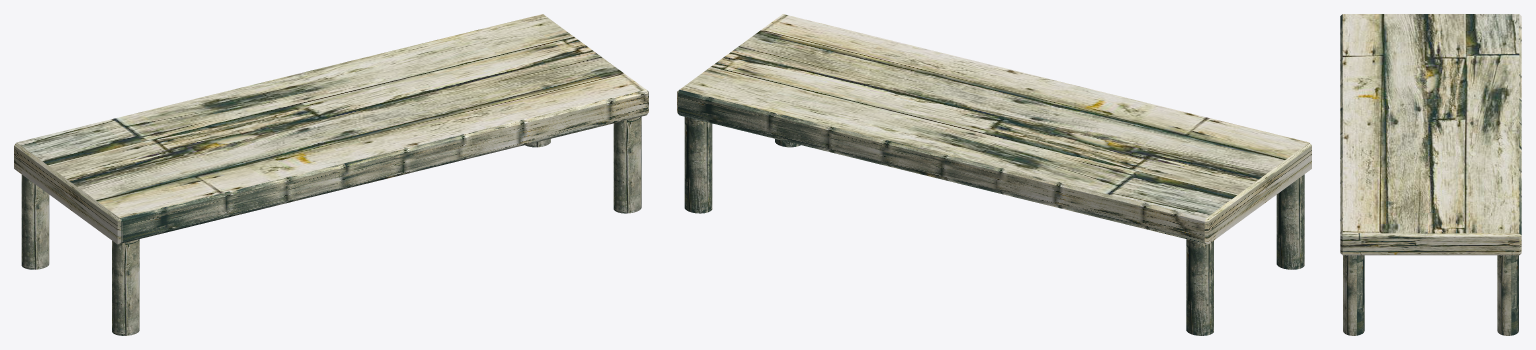
Rendered from Dock.fbx.
3 views of the same model, side by side, from view 1: azimuth 30°, elevation 25°; view 2: azimuth 150°, elevation 25°; view 3: azimuth 270°, elevation 25° (orthographic). The views are drawn at different scales.
Visible parts, largest first — view 1: pCylinder5; view 2: pCylinder5; view 3: pCylinder5.
Part boxes in pixels (x1,y1,x2,y2): pCylinder5: (14,14,648,335); pCylinder5: (677,14,1311,335); pCylinder5: (1340,14,1521,335).
Bounding box in the file's own units: 9.16 × 1.98 × 3.17.
